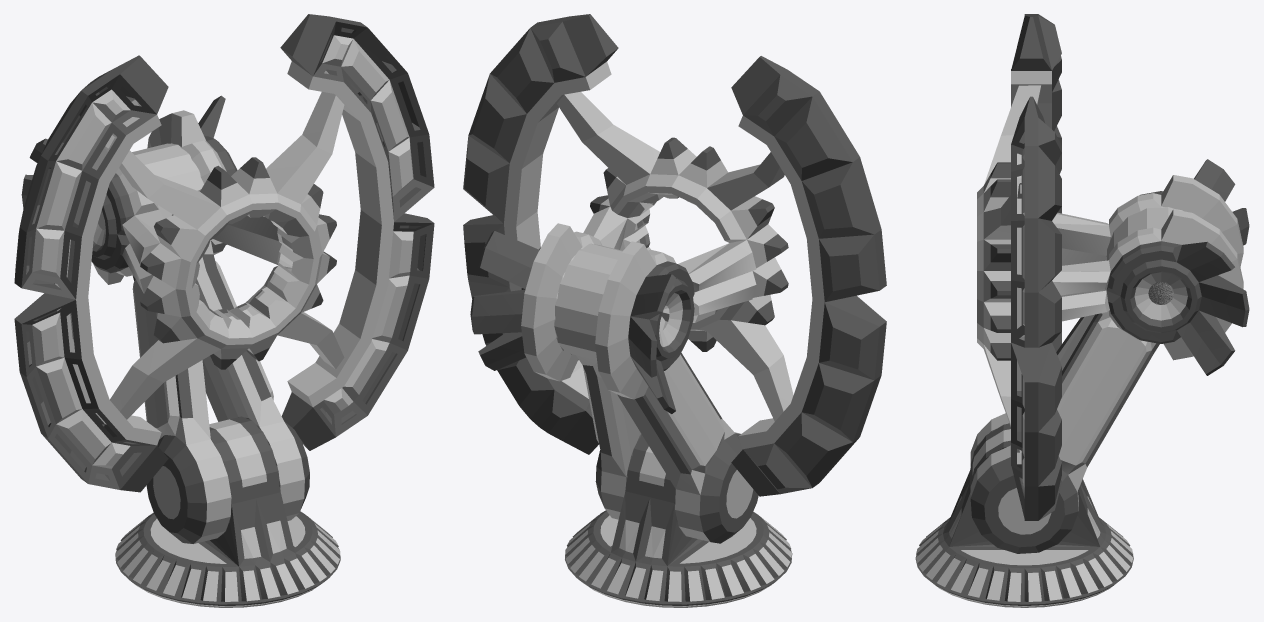
Rendered from tower_radar.dae.
3 renders of one model, left to right at view 1: azimuth 30°, elevation 25°; view 2: azimuth 150°, elevation 25°; view 3: azimuth 270°, elevation 25°, orthographic. The views are drawn at different scales.
Visible parts, largest first — view 1: tower_radar; view 2: tower_radar; view 3: tower_radar.
Boxes of the visible parts, bbox=[...] form: tower_radar: bbox=[14, 14, 434, 607]; tower_radar: bbox=[463, 14, 886, 607]; tower_radar: bbox=[915, 14, 1249, 607].
Size of the model in its own units: 16.88 by 12.23 by 20.53.
